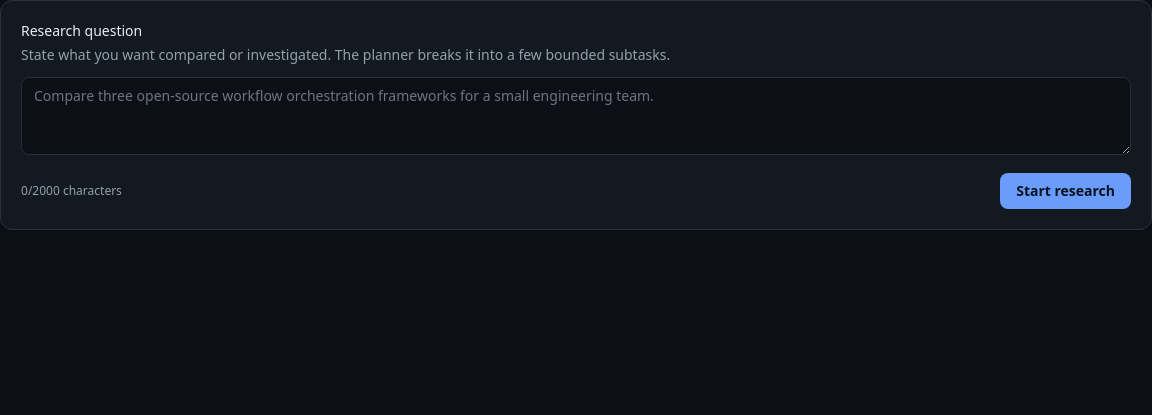
Test: TaskCreateForm › surfaces the API error message and its correlation id
Type "Compare three workflow orchestration frameworks." into the text box labelled "Research question" at coordinates (576, 116), box [21,77,1131,155]
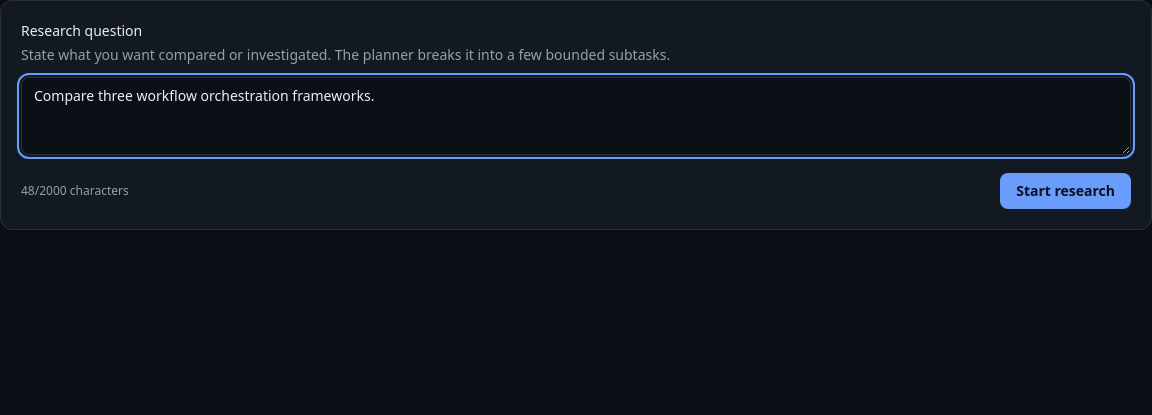
Click the button "Start research" at coordinates (1066, 191), box [1000,173,1131,209]
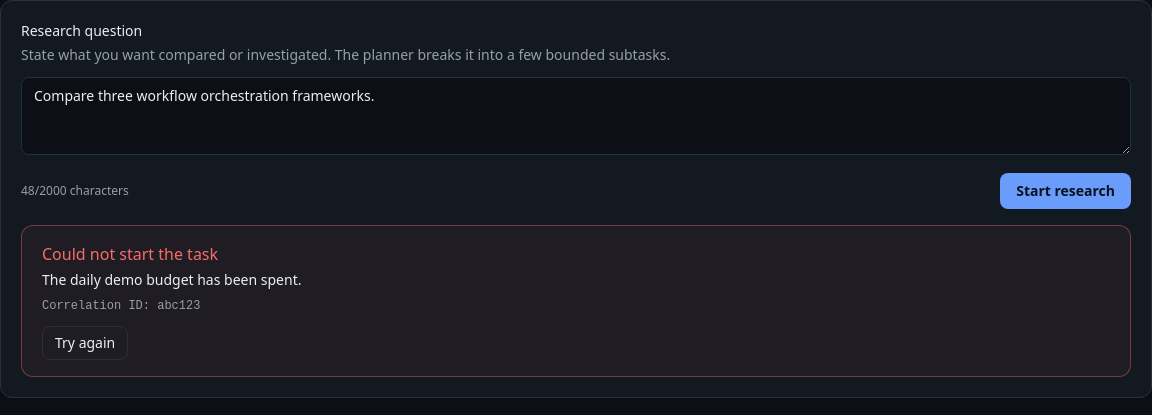
Now the text "The daily demo budget has been spent." is shown, box [42,270,301,289]
Now the text "Correlation ID: abc123" is shown, box [42,299,200,313]
